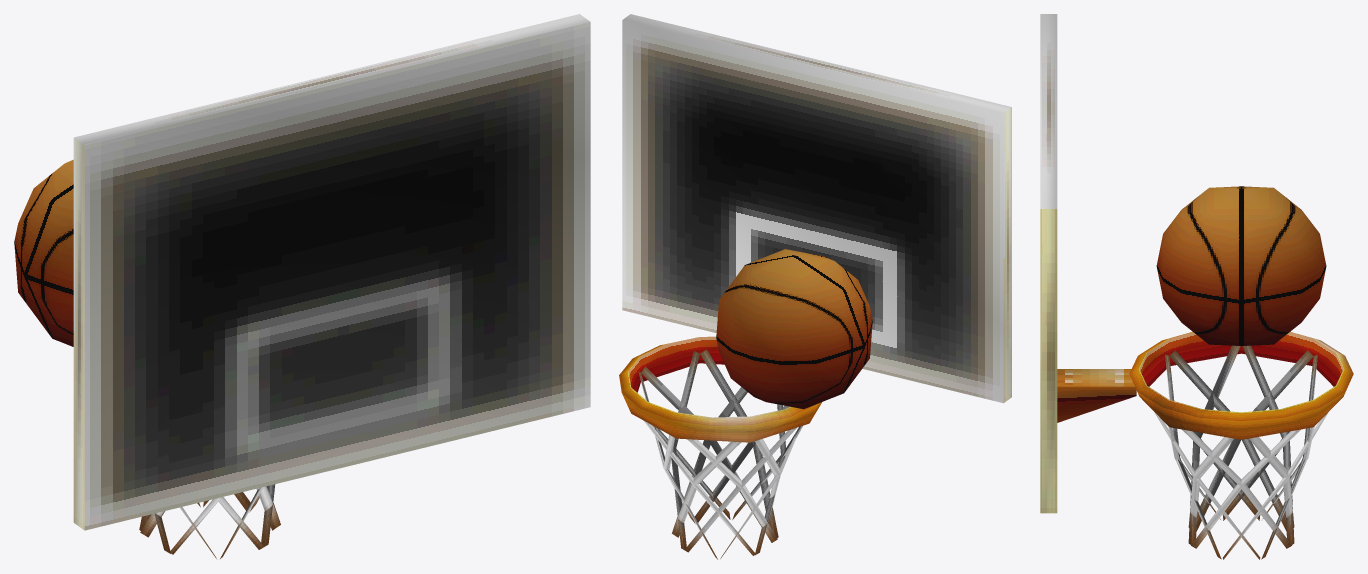
The model's file is ps2_save-icons_nbastartingfive.glb.
3 views of the same model, side by side, from view 1: azimuth 30°, elevation 25°; view 2: azimuth 150°, elevation 25°; view 3: azimuth 270°, elevation 25° (orthographic). The views are drawn at different scales.
Parts seen in each view (by area): view 1: nba2nig1.ico; view 2: nba2nig1.ico; view 3: nba2nig1.ico.
Part boxes in pixels (left/top/right/bottom): nba2nig1.ico: left=14, top=14, right=590, bottom=558; nba2nig1.ico: left=619, top=14, right=1011, bottom=559; nba2nig1.ico: left=1040, top=14, right=1353, bottom=559.
Size of the model in its own units: 2.75 by 2.82 by 1.87.
Materials: 1 (1 with a texture image).
